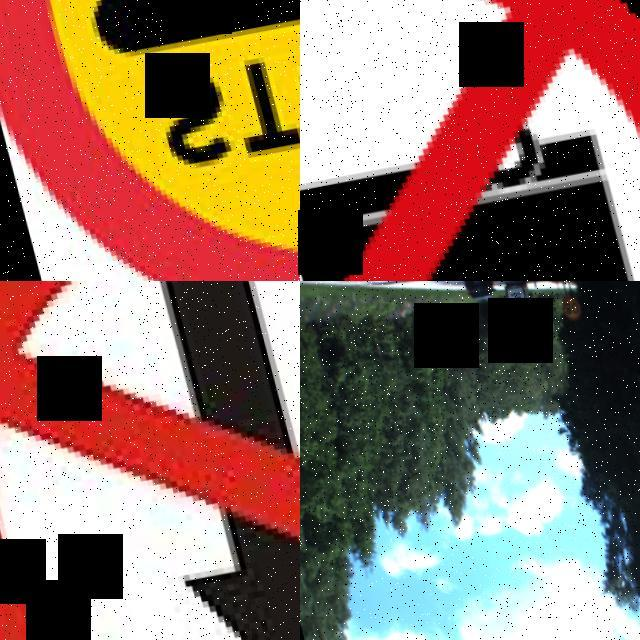116: (0, 0, 300, 281)
55: (555, 293, 583, 324)
No entry: (0, 281, 300, 640)
No entry for Trucks: (300, 0, 640, 281)
